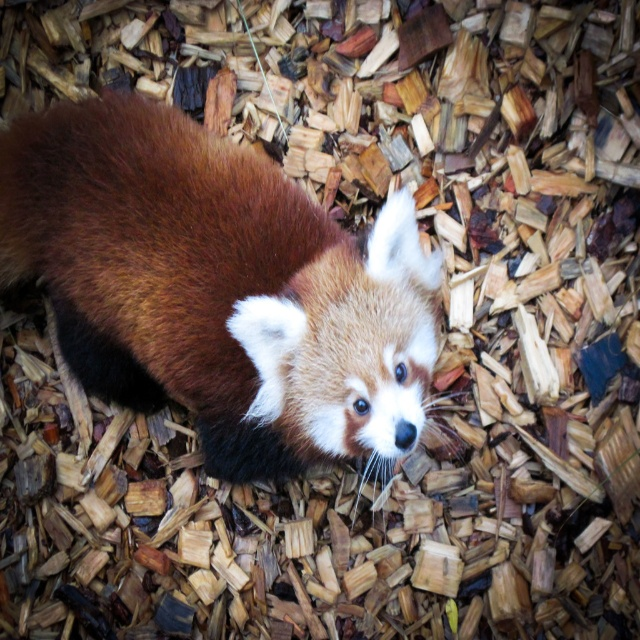Red panda: (0, 84, 475, 548)
